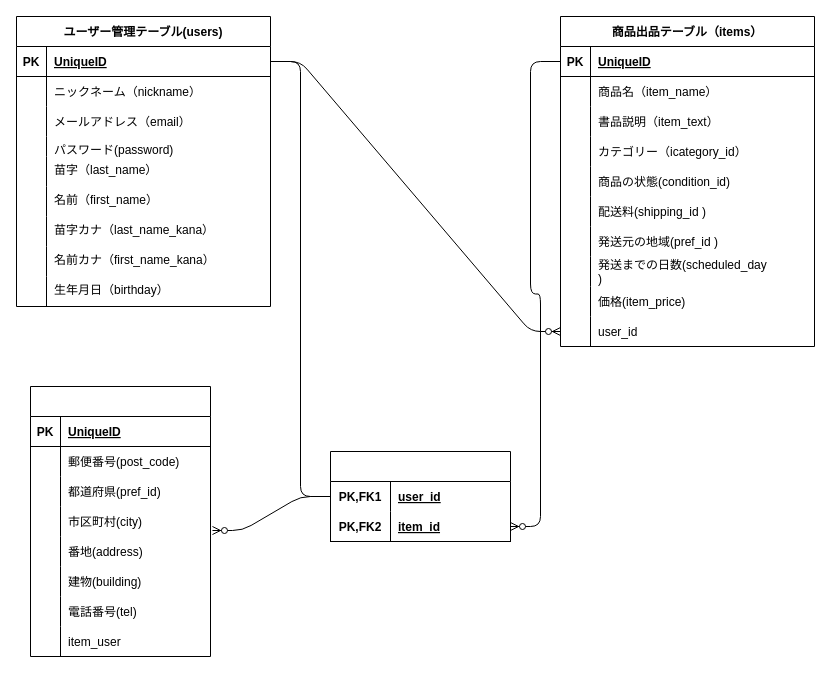
Image size: 831x673. Some labels were removed from this diagram. The shapes that lost their labels are listed below. From the top down, each one's box as (x1, y1, x2, y2) in pixels, then its label:
(330, 450, 510, 542): 中間テーブル(item_users)
(30, 386, 210, 656): 商品購入テーブル（buys)
